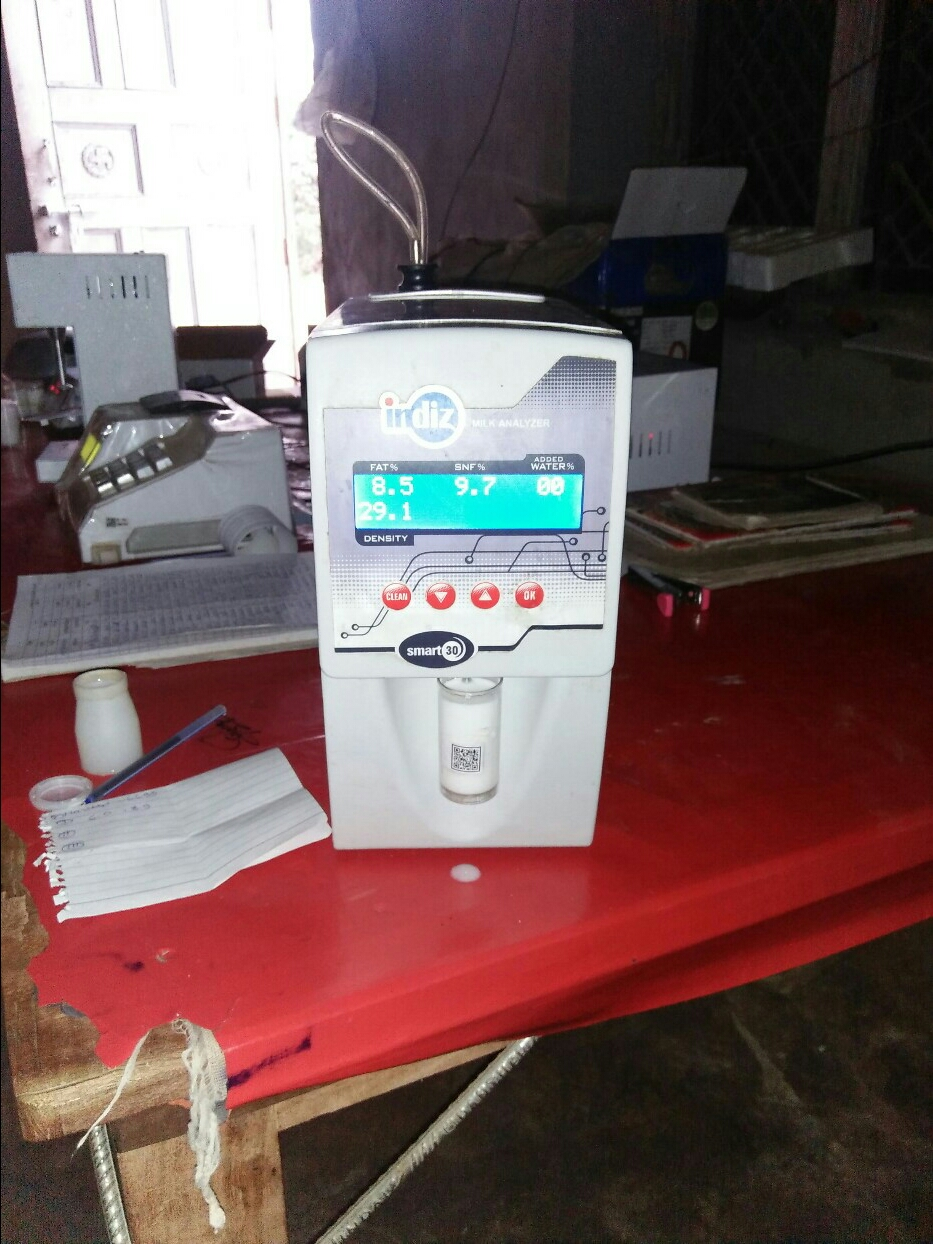lcd: (346, 461, 601, 548)
qr: (441, 740, 486, 780)
